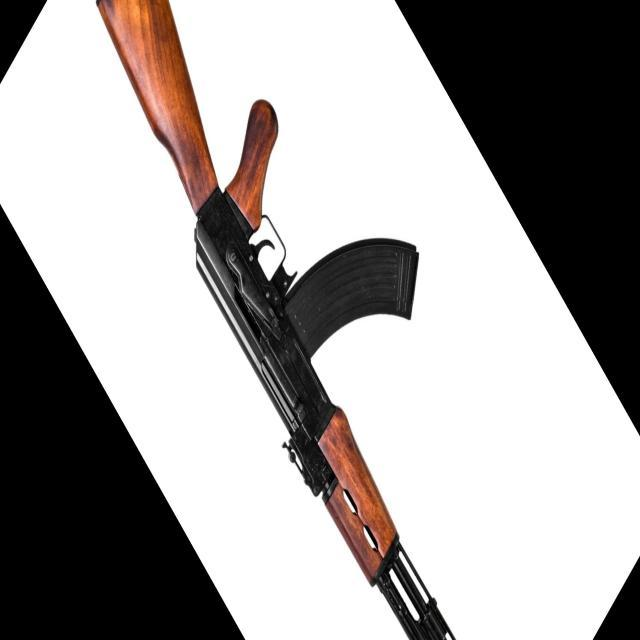weapon: (94, 0, 458, 640)
